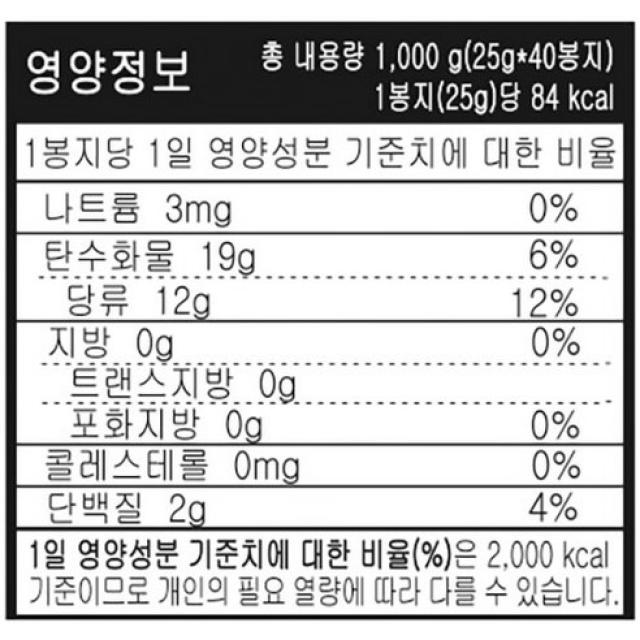Nutrition Label: (2, 10, 640, 639)
